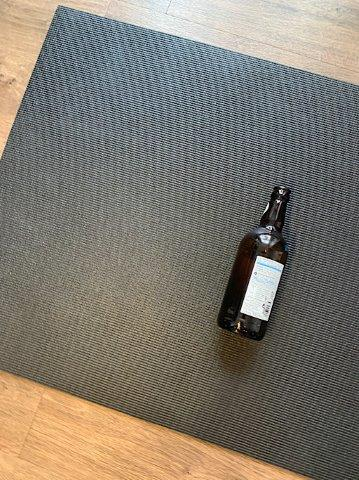botolkaca: (217, 186, 295, 341)
